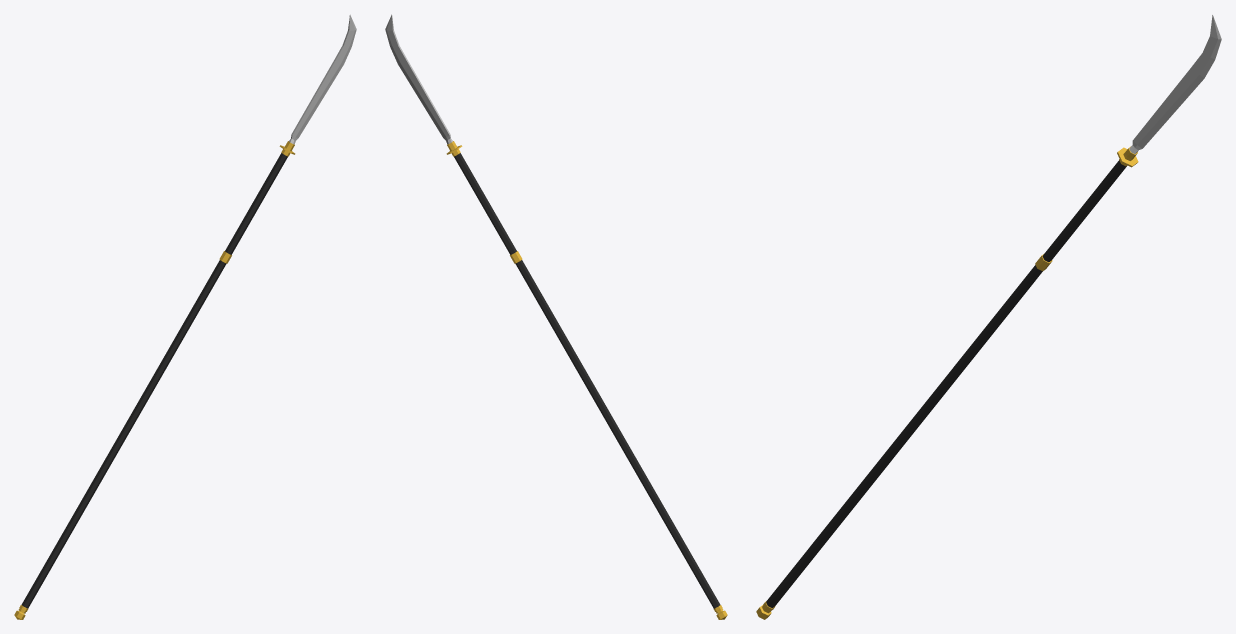
The model's file is Naginata.fbx.
3 renders of one model, left to right at view 1: azimuth 30°, elevation 25°; view 2: azimuth 150°, elevation 25°; view 3: azimuth 330°, elevation 25°, orthographic. The views are drawn at different scales.
Parts seen in each view (by area): view 1: Naginata; view 2: Naginata; view 3: Naginata.
Part boxes in pixels (x1,y1,x2,y2): Naginata: (14,14,356,619); Naginata: (385,14,727,619); Naginata: (756,15,1221,619).
Bounding box in the file's own units: 3619 × 5320 × 162.
